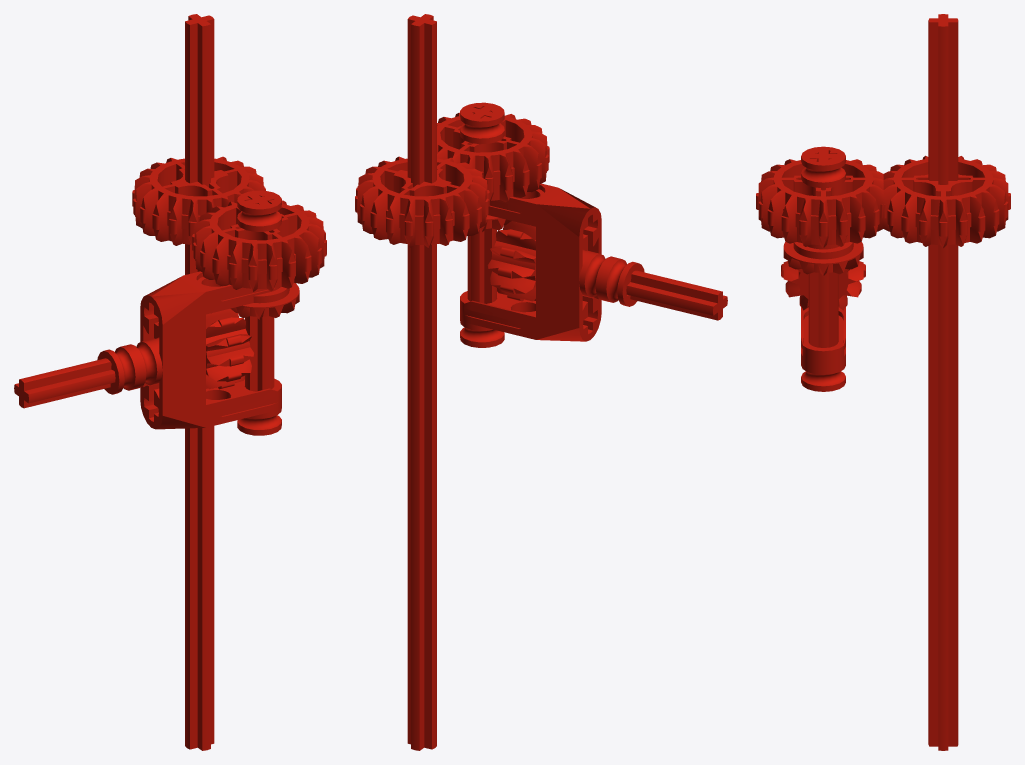
File: DribblertestModelLego.obj
3 renders of one model, left to right at view 1: azimuth 30°, elevation 25°; view 2: azimuth 150°, elevation 25°; view 3: azimuth 270°, elevation 25°, orthographic.
Visible parts, largest first — view 1: Piece011, Piece001, Piece000, Piece010, Piece004, Piece003, Piece002, Piece009, Piece005, Piece008, Piece007, Piece006; view 2: Piece011, Piece001, Piece010, Piece000, Piece004, Piece003, Piece002, Piece009, Piece008, Piece007, Piece006; view 3: Piece011, Piece010, Piece000, Piece002, Piece005, Piece004, Piece001, Piece009, Piece006.
Boxes of the visible parts, bbox=[...] form: Piece011: bbox=[185, 14, 214, 750]; Piece001: bbox=[140, 271, 281, 429]; Piece000: bbox=[192, 200, 326, 291]; Piece010: bbox=[132, 156, 265, 245]; Piece004: bbox=[206, 309, 253, 389]; Piece003: bbox=[14, 358, 115, 408]; Piece002: bbox=[245, 193, 274, 391]; Piece009: bbox=[237, 190, 281, 231]; Piece005: bbox=[230, 283, 299, 319]; Piece008: bbox=[97, 345, 140, 394]; Piece007: bbox=[126, 340, 162, 388]; Piece006: bbox=[237, 403, 281, 435]; Piece011: bbox=[407, 14, 436, 750]; Piece001: bbox=[460, 183, 601, 341]; Piece010: bbox=[355, 156, 489, 247]; Piece000: bbox=[437, 112, 549, 202]; Piece004: bbox=[487, 221, 535, 301]; Piece003: bbox=[626, 270, 727, 320]; Piece002: bbox=[467, 106, 496, 303]; Piece009: bbox=[460, 102, 504, 144]; Piece008: bbox=[601, 257, 644, 306]; Piece007: bbox=[579, 252, 615, 301]; Piece006: bbox=[460, 315, 504, 347]; Piece011: bbox=[928, 14, 958, 750]; Piece010: bbox=[880, 155, 1010, 247]; Piece000: bbox=[756, 159, 886, 247]; Piece002: bbox=[808, 150, 838, 347]; Piece005: bbox=[783, 242, 863, 275]; Piece004: bbox=[781, 261, 865, 310]; Piece001: bbox=[801, 244, 845, 369]; Piece009: bbox=[801, 146, 845, 188]; Piece006: bbox=[801, 360, 845, 391].
Bounding box in the file's own units: 137 × 320 × 102.
